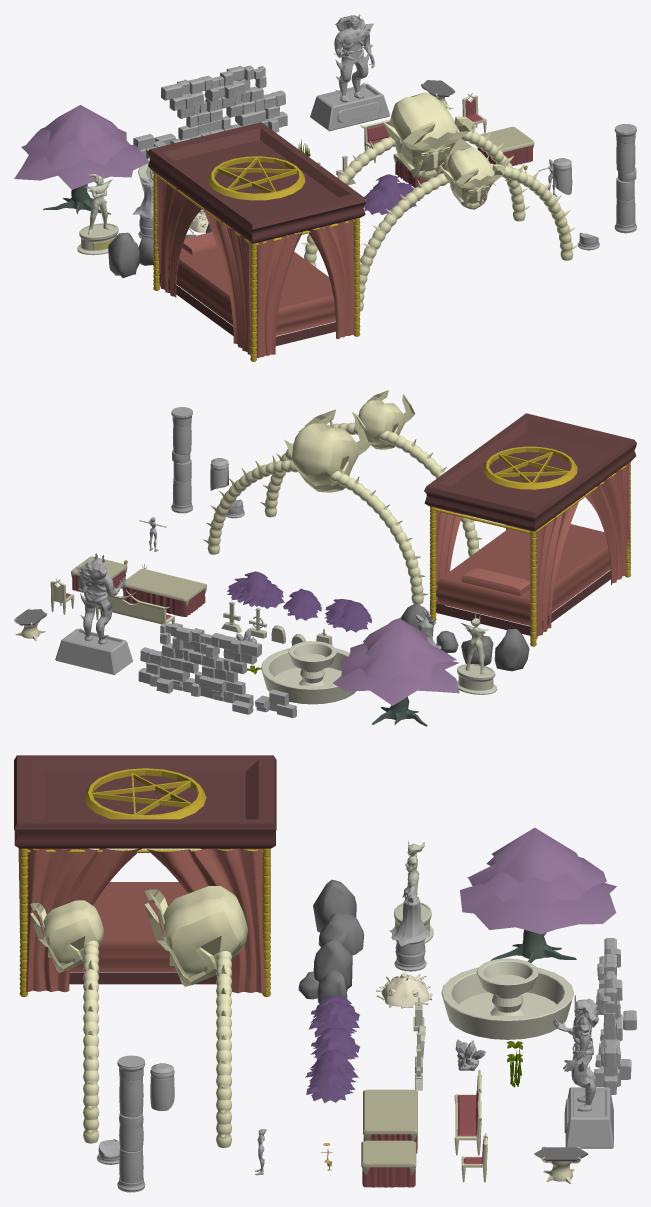
Rendered from MODELADOSLVL2y3.fbx.
3 renders of one model, top to bottom at view 1: azimuth 30°, elevation 25°; view 2: azimuth 150°, elevation 25°; view 3: azimuth 270°, elevation 25°, orthographic. The views are drawn at different scales.
Visible parts, largest first — view 1: Cama1, Arbol, ArcodeCabeza, Paredes_de_piedras_rotas_a_la_mitad:Paredes_de_piedras_rotas, ArcodeCabezaChica, EstatuaSamael1, Columna_Completa, Estatua_Yaldabaoth, MesaPequeña1, Esc_Arbusto1:polySurface35, Piedras:polySurface4, Estatua_Enemigo_2:polySurface54 (+5 smaller); view 2: Cama1, ArcodeCabeza, Paredes_de_piedras_rotas_a_la_mitad:Paredes_de_piedras_rotas, Arbol, EstatuaSamael1, Fuente, ArcodeCabezaChica, MesaLarga1, Columna_Completa, Estatua_Yaldabaoth, Esc_Arbusto1:polySurface35, Butaca1 (+8 smaller); view 3: Cama1, Arbol, ArcodeCabeza, Fuente, ArcodeCabezaChica, EstatuaSamael1, Paredes_de_piedras_rotas_a_la_mitad:Paredes_de_piedras_rotas, Columna_Completa, MesaLarga1, MesaPequeña1, polySurface783, Estatua_Enemigo_2:polySurface54 (+11 smaller).
Part boxes in pixels (box(x1,y1,x2,y2)): Cama1: box(147, 122, 365, 361); Arbol: box(14, 105, 149, 214); ArcodeCabeza: box(301, 92, 530, 266); Paredes_de_piedras_rotas_a_la_mitad:Paredes_de_piedras_rotas: box(133, 65, 287, 158); ArcodeCabezaChica: box(359, 147, 577, 311); EstatuaSamael1: box(310, 14, 389, 131); Columna_Completa: box(614, 124, 636, 233); Estatua_Yaldabaoth: box(77, 174, 118, 255); MesaPequeña1: box(477, 126, 534, 165); Esc_Arbusto1:polySurface35: box(364, 174, 419, 214); Piedras:polySurface4: box(108, 232, 140, 277); Estatua_Enemigo_2:polySurface54: box(133, 169, 153, 238); Cama1: box(424, 413, 636, 646); ArcodeCabeza: box(203, 409, 428, 604); Paredes_de_piedras_rotas_a_la_mitad:Paredes_de_piedras_rotas: box(138, 623, 296, 718); Arbol: box(333, 618, 459, 726); EstatuaSamael1: box(55, 553, 132, 674); Fuente: box(261, 641, 356, 704); ArcodeCabezaChica: box(260, 390, 482, 556); MesaLarga1: box(122, 568, 206, 616); Columna_Completa: box(171, 407, 192, 513); Estatua_Yaldabaoth: box(457, 614, 497, 694); Esc_Arbusto1:polySurface35: box(227, 571, 284, 608); Butaca1: box(96, 590, 174, 624); Cama1: box(14, 755, 276, 996); Arbol: box(460, 827, 616, 962); ArcodeCabeza: box(144, 886, 247, 1147); Fuente: box(441, 958, 573, 1039); ArcodeCabezaChica: box(30, 900, 104, 1143); EstatuaSamael1: box(553, 995, 613, 1148); Paredes_de_piedras_rotas_a_la_mitad:Paredes_de_piedras_rotas: box(594, 938, 636, 1094); Columna_Completa: box(117, 1055, 145, 1192); MesaLarga1: box(363, 1089, 417, 1153); MesaPequeña1: box(361, 1140, 416, 1187); polySurface783: box(298, 938, 352, 1003); Estatua_Enemigo_2:polySurface54: box(389, 881, 430, 971).
Size of the model in its own units: 23.42 by 7.42 by 22.03.
